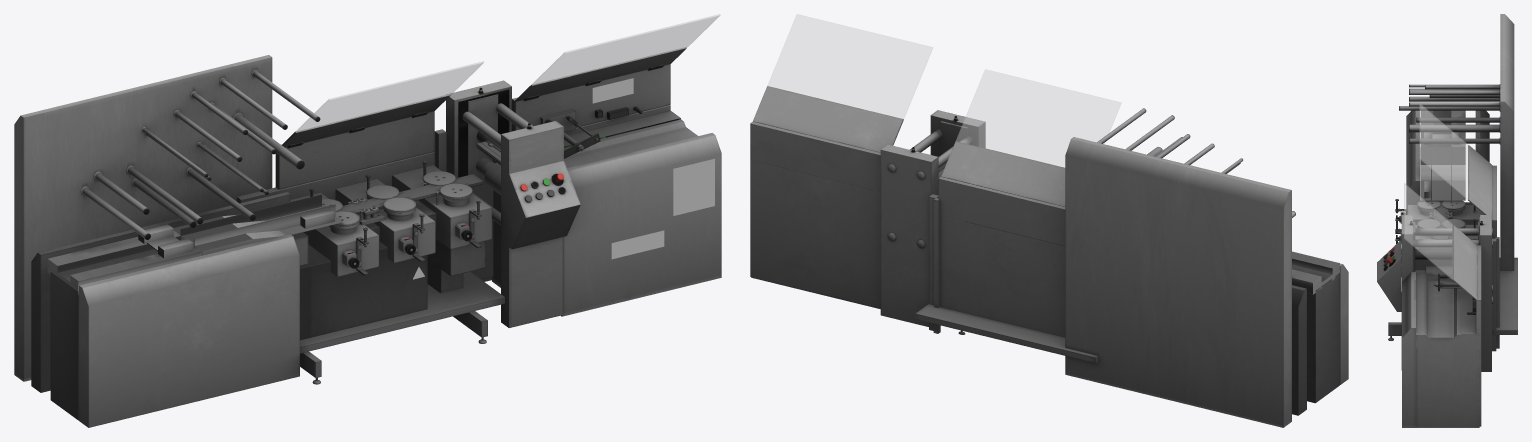
Rendered from corta_multipack.fbx.
3 renders of one model, left to right at view 1: azimuth 30°, elevation 25°; view 2: azimuth 150°, elevation 25°; view 3: azimuth 270°, elevation 25°, orthographic. The views are drawn at different scales.
Visible parts, largest first — view 1: pCube42, pCube34, pCube32, polySurface10, polySurface21, polySurface22, pCube15, pCube36, pCube44, pCube31, pCube35, vidrio2 (+24 smaller); view 2: pCube42, pCube43, pCube14, vidrio2, vidrio1, pCube22, pCube48, pCube44, pCube15, pCube16, pCube35, pCube11 (+7 smaller); view 3: pCube31, pCube42, vidrio1, vidrio2, pCube39, pCube32, pCube22, pCube48, pCube16, pCube11, pCube34, polySurface21 (+32 smaller).
Part boxes in pixels (x1=…): pCube42: x1=14, y1=55, x2=272, y2=381; pCube34: x1=79, y1=234, x2=299, y2=427; pCube32: x1=561, y1=133, x2=721, y2=316; polySurface10: x1=300, y1=241, x2=427, y2=340; polySurface21: x1=509, y1=127, x2=580, y2=249; polySurface22: x1=501, y1=121, x2=563, y2=327; pCube15: x1=275, y1=111, x2=434, y2=189; pCube36: x1=31, y1=191, x2=290, y2=392; pCube44: x1=512, y1=64, x2=670, y2=131; pCube31: x1=492, y1=110, x2=697, y2=287; pCube35: x1=50, y1=232, x2=308, y2=420; vidrio2: x1=532, y1=14, x2=720, y2=84; pCube42: x1=1065, y1=137, x2=1291, y2=427; pCube43: x1=750, y1=159, x2=880, y2=308; pCube14: x1=939, y1=215, x2=1065, y2=337; vidrio2: x1=767, y1=14, x2=932, y2=118; vidrio1: x1=956, y1=69, x2=1121, y2=167; pCube22: x1=880, y1=144, x2=938, y2=326; pCube48: x1=753, y1=86, x2=903, y2=152; pCube44: x1=750, y1=121, x2=880, y2=191; pCube15: x1=938, y1=176, x2=1065, y2=245; pCube16: x1=941, y1=141, x2=1065, y2=206; pCube35: x1=1307, y1=273, x2=1339, y2=403; pCube11: x1=915, y1=304, x2=1098, y2=363; pCube31: x1=1416, y1=272, x2=1479, y2=427; pCube42: x1=1500, y1=14, x2=1514, y2=270; vidrio1: x1=1419, y1=104, x2=1468, y2=199; vidrio2: x1=1404, y1=183, x2=1452, y2=279; pCube39: x1=1420, y1=147, x2=1465, y2=200; pCube32: x1=1402, y1=271, x2=1415, y2=427; pCube22: x1=1480, y1=215, x2=1491, y2=371; pCube48: x1=1452, y1=224, x2=1477, y2=300; pCube16: x1=1468, y1=145, x2=1492, y2=220; pCube11: x1=1492, y1=257, x2=1517, y2=334; pCube34: x1=1406, y1=110, x2=1420, y2=208; polySurface21: x1=1377, y1=240, x2=1401, y2=311.
Bounding box in the file's own units: 44.63 × 17.87 × 11.93.
